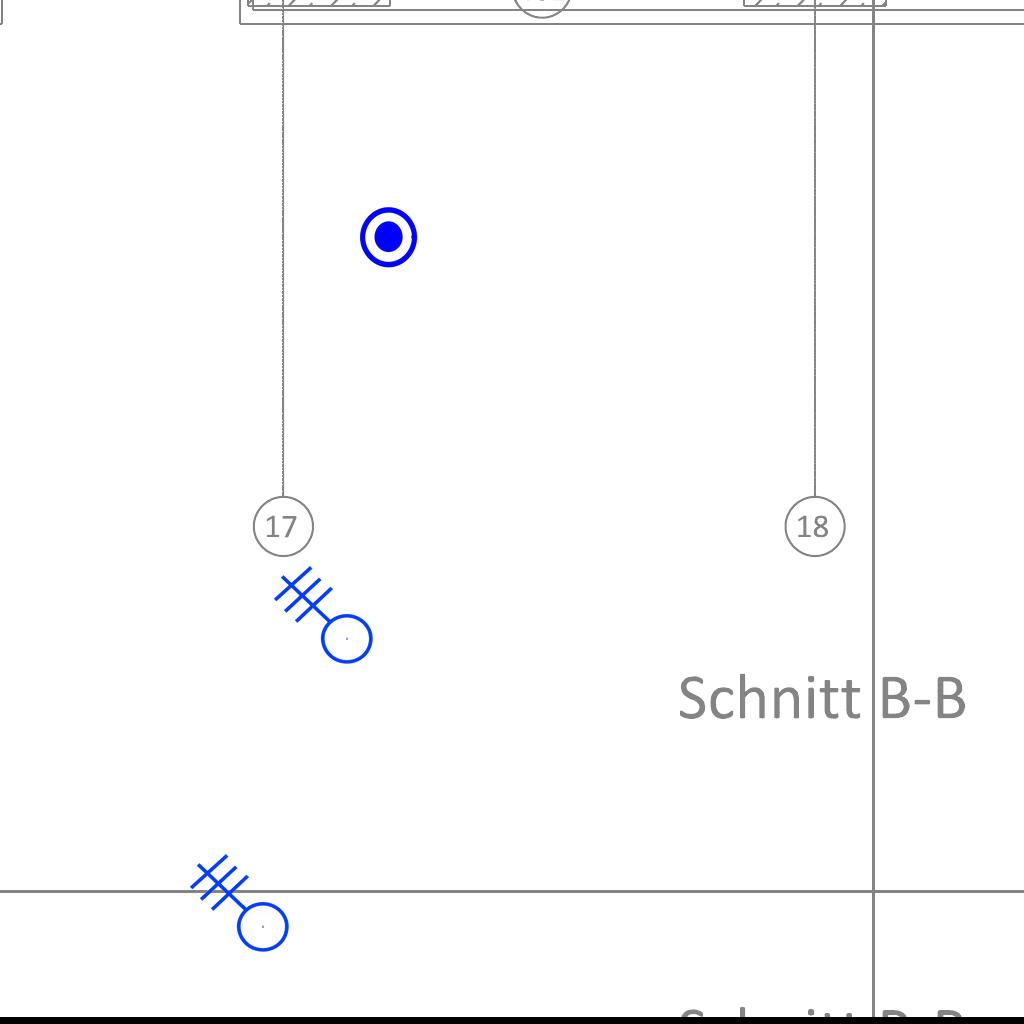Elektroanschluss_allgemein_400V_Geraeteanschlussdose_400V: (177, 853, 290, 969), (261, 565, 374, 681)
Taster: (358, 204, 424, 270)
